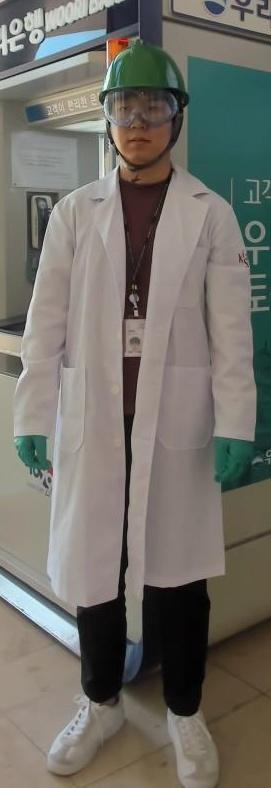lab_coat: (50, 204, 227, 581)
